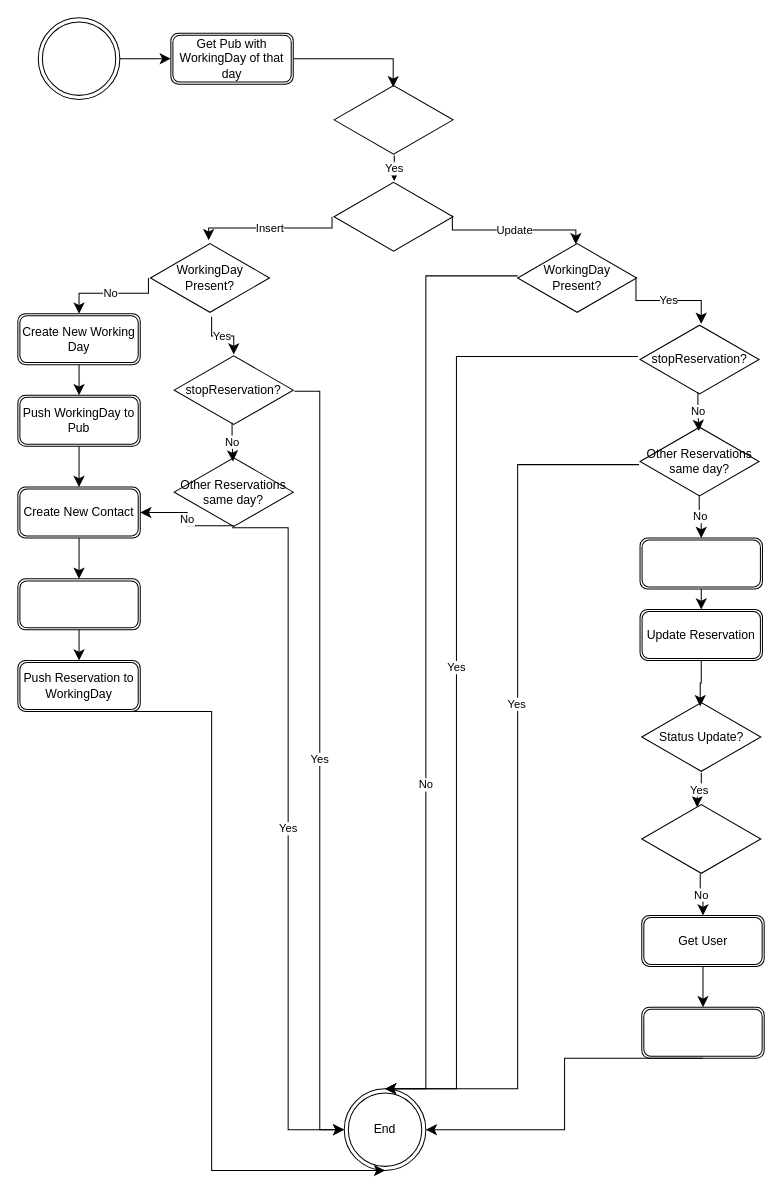
Image size: 782x1199. Some labels were removed from this diagram. Here are the shapes that lost their labels. From the top down, the box of each, then its label:
(37, 17, 120, 99): Start
(333, 83, 453, 156): Valid?
(333, 180, 453, 252): Insert/Update?
(639, 537, 762, 589): Get & Update Contact
(17, 578, 140, 630): Create new Reservation
(641, 802, 761, 875): IsGuest?
(641, 1006, 764, 1058): Update User Score
